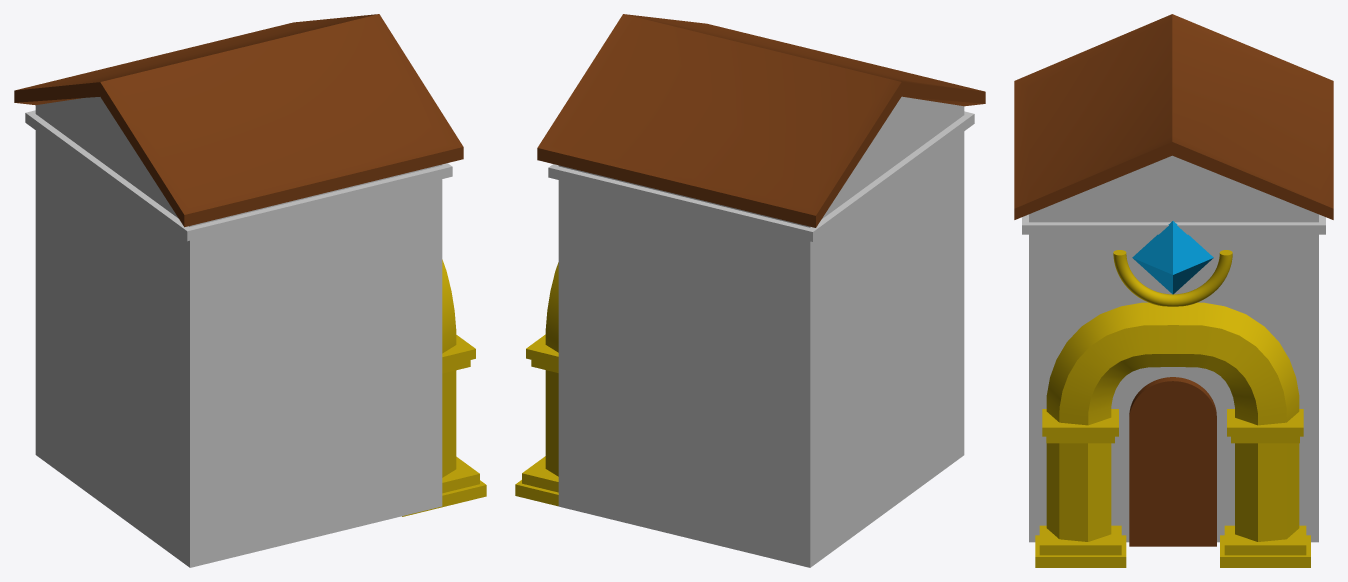
File: templo1.fbx
The picture shows the model from 3 angles, left to right: view 1: azimuth 30°, elevation 25°; view 2: azimuth 150°, elevation 25°; view 3: azimuth 270°, elevation 25°; orthographic projection. The views are drawn at different scales.
Visible parts, largest first — view 1: Cube, Symmetry; view 2: Cube, Symmetry; view 3: Cube, Symmetry, Cylinder, Sphere, Torus.
Boxes of the visible parts, box(x1,y1,x2,y2) form: Cube: box(14, 14, 463, 567); Symmetry: box(402, 259, 486, 516); Cube: box(537, 14, 985, 567); Symmetry: box(515, 262, 558, 506); Cube: box(1014, 14, 1333, 542); Symmetry: box(1035, 302, 1310, 567); Cylinder: box(1129, 377, 1216, 546); Sphere: box(1132, 221, 1213, 294); Torus: box(1113, 250, 1232, 306).
Size of the model in its own units: 830 by 1107 by 780.
